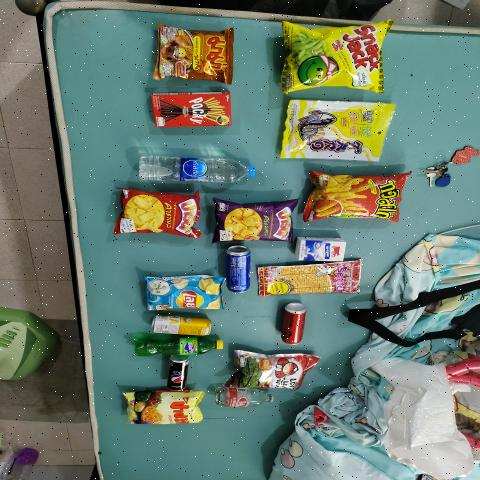bento_red: (254, 263, 362, 296)
coke_red: (274, 302, 309, 346)
crystal: (136, 155, 255, 185)
fanta_green: (123, 337, 224, 355)
lay_blue: (142, 276, 227, 312)
mama: (157, 31, 231, 77)
paprika: (120, 394, 202, 423)
party_purple: (220, 208, 294, 241)
party_red: (123, 191, 199, 232)
pepsi_black: (170, 362, 192, 392)
pepsi_blue: (220, 244, 252, 293)
pokki: (154, 91, 235, 130)
singha_soda: (208, 389, 276, 407)
singha_yellow: (143, 312, 226, 334)
snack_jack: (284, 24, 386, 87)
taokaenoi: (231, 347, 317, 387)
taro_yellow: (279, 99, 387, 165)
thai_denmark: (297, 239, 342, 260)
twisco: (299, 177, 399, 222)
